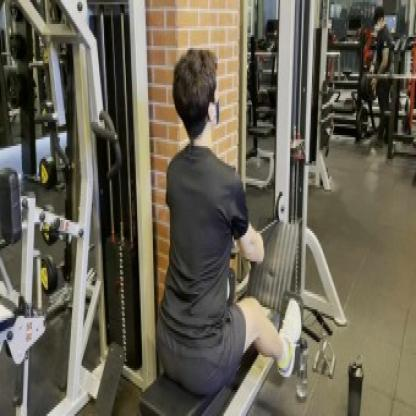Seated Cable Rows: (130, 4, 351, 416)
